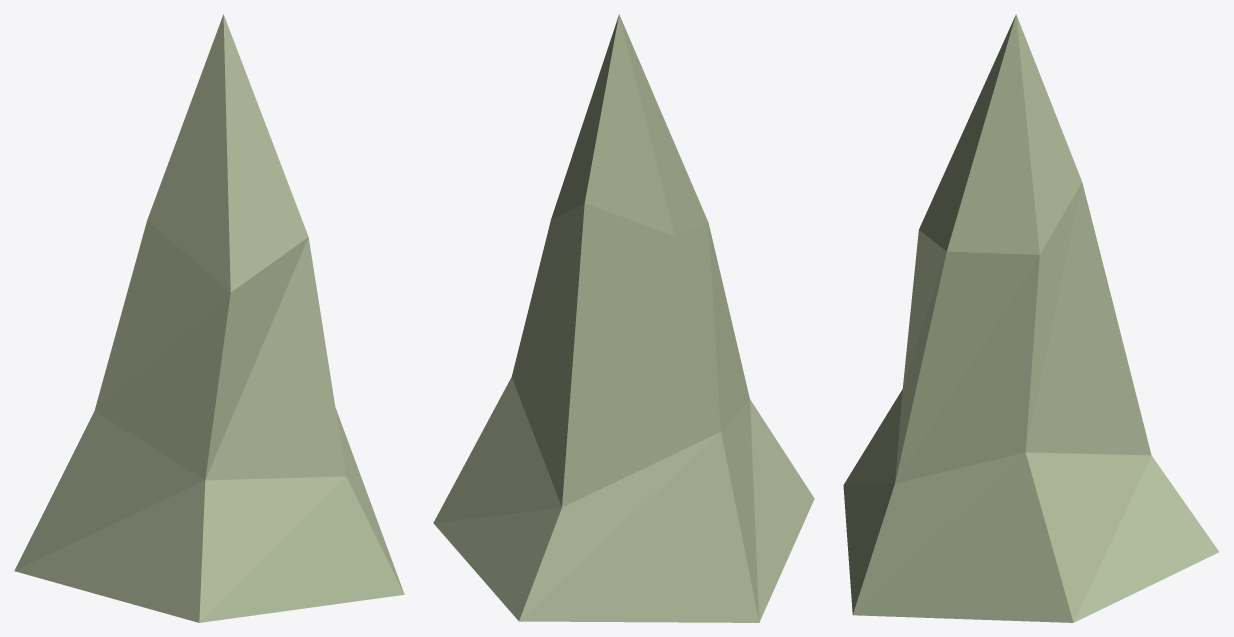
File: AbiesBalsamea.glb
The picture shows the model from 3 angles, left to right: view 1: azimuth 30°, elevation 25°; view 2: azimuth 150°, elevation 25°; view 3: azimuth 270°, elevation 25°; orthographic projection.
Parts seen in each view (by area): view 1: Crown; view 2: Crown; view 3: Crown.
Part boxes in pixels (bbox=[...]): Crown: bbox=[14, 14, 404, 622]; Crown: bbox=[433, 14, 814, 622]; Crown: bbox=[843, 14, 1218, 622].
Bounding box in the file's own units: 8.25 × 13.46 × 8.01.
